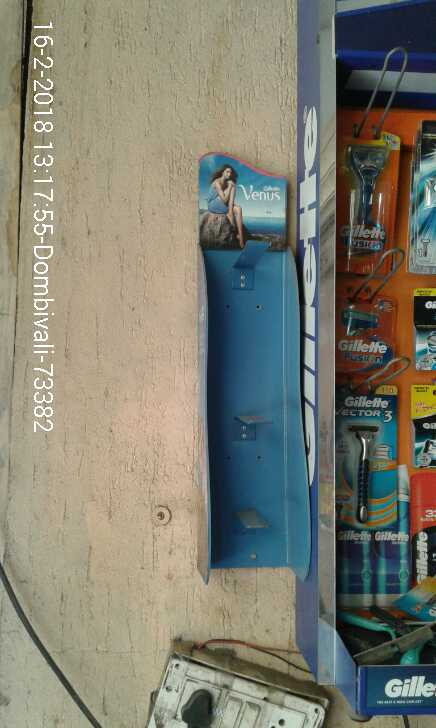reject: (141, 205, 270, 406)
